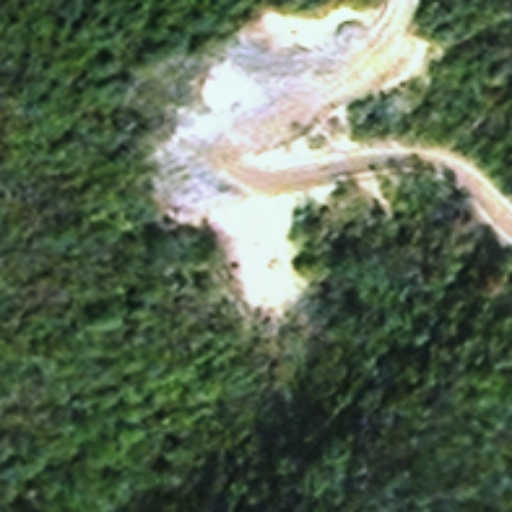landslide: (191, 190, 308, 313)
